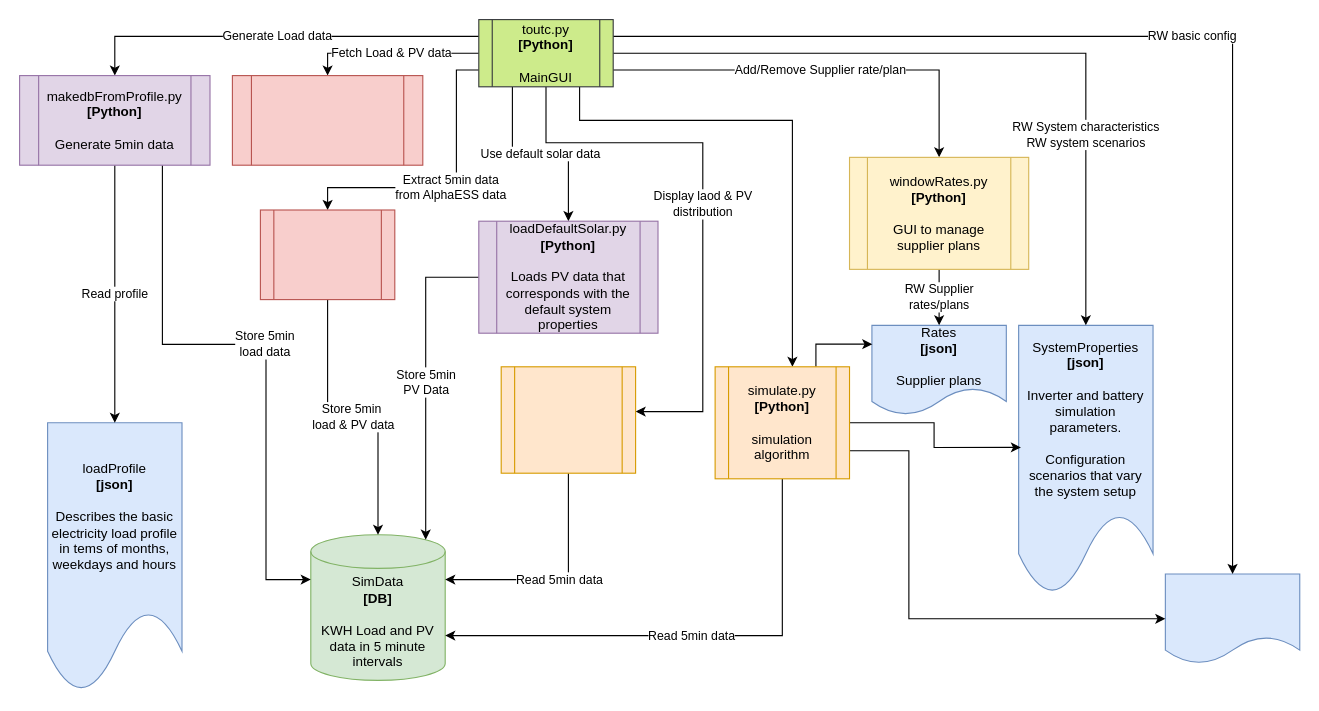
Image size: 1319x711. Some labels were removed from this diagram. Here are the shapes that lost their labels. From the top down, the centre of each, then its label:
At point (327, 119): "fetchData_gui.py [Python] Fetch data from AlphaESS".
At point (327, 254): "makedb.py [Python] Generate 5min data".
At point (568, 419): "reportdb.py [Python] GUI to show load and PV distributions".
At point (1232, 618): "EnvProperties [json] Basic configuration".
